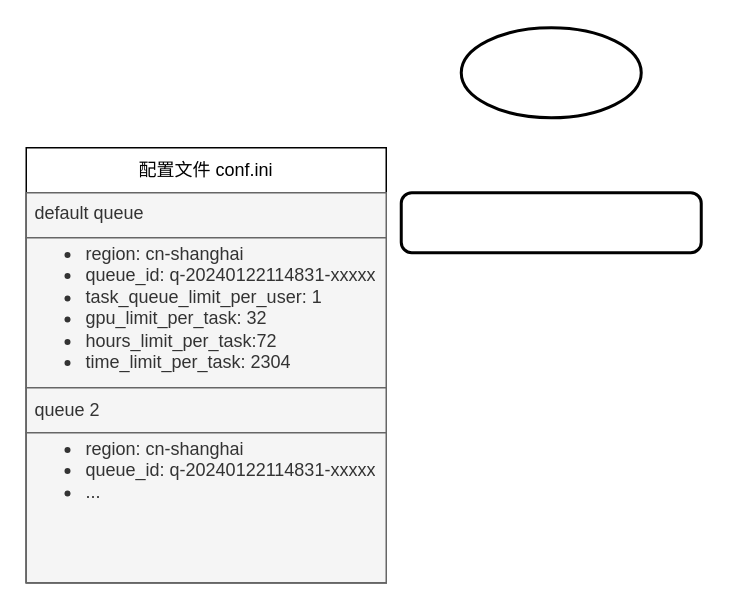
This 729x615 diagram has some shape labels left out. Each missing label, with the box of its shape:
MONITOR START: (459, 26, 642, 118)
读取配置文件: (399, 190, 702, 254)
